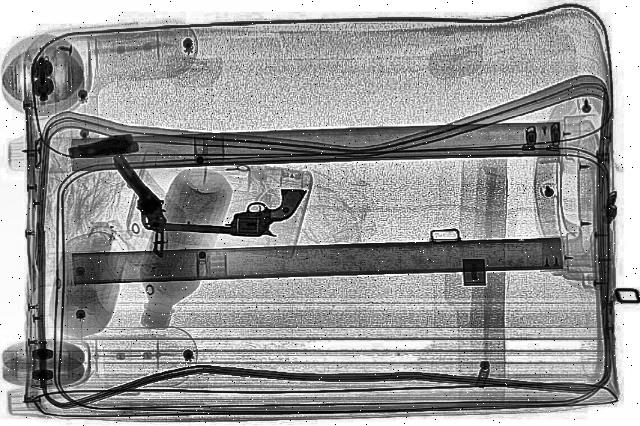Gun: (106, 149, 190, 259), (146, 182, 308, 236)
